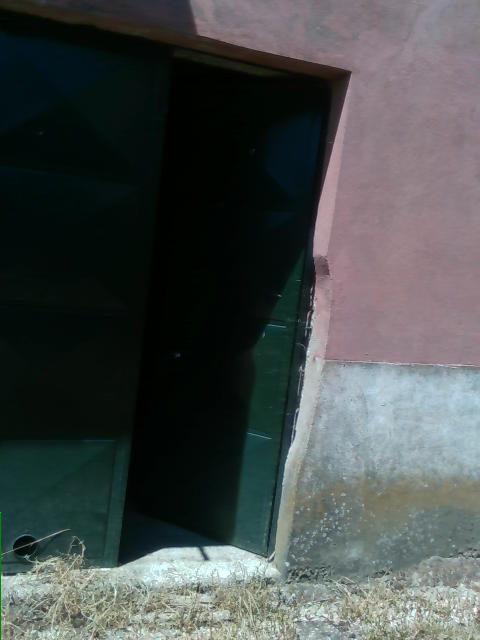semi: (2, 2, 349, 575)
